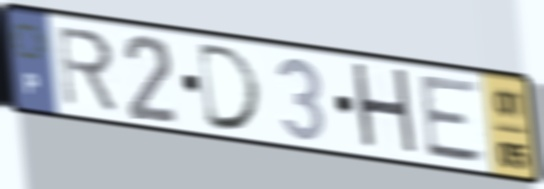2: (120, 31, 183, 128)
3: (274, 53, 329, 145)
D: (195, 40, 267, 134)
E: (416, 73, 490, 167)
H: (348, 59, 423, 162)
R: (53, 23, 121, 115)
